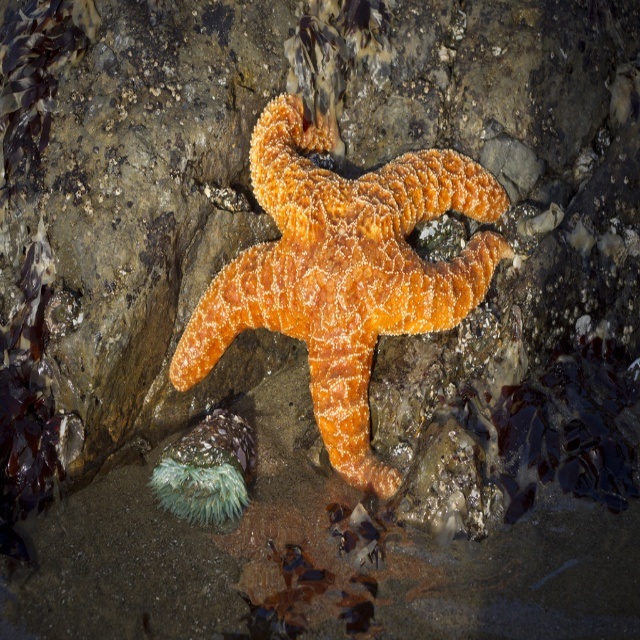Starfish: (169, 89, 518, 503)
